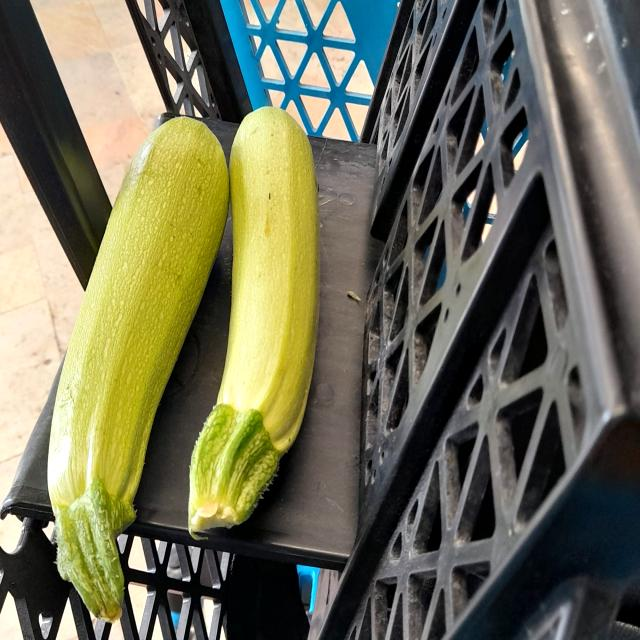zucchini: (44, 80, 236, 640), (190, 96, 322, 542)
